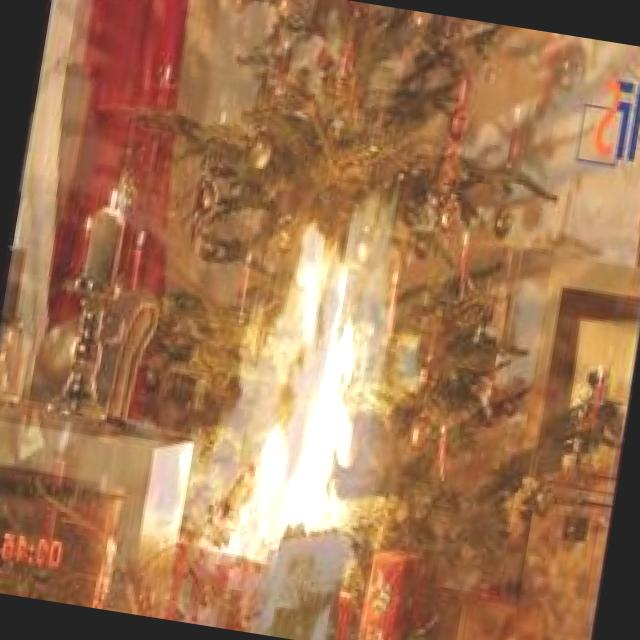fire: (174, 205, 410, 568)
